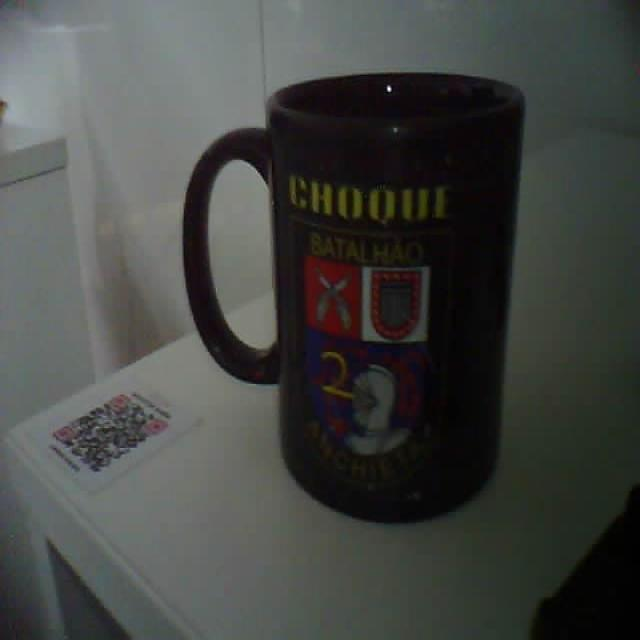caneca: (184, 73, 523, 520)
